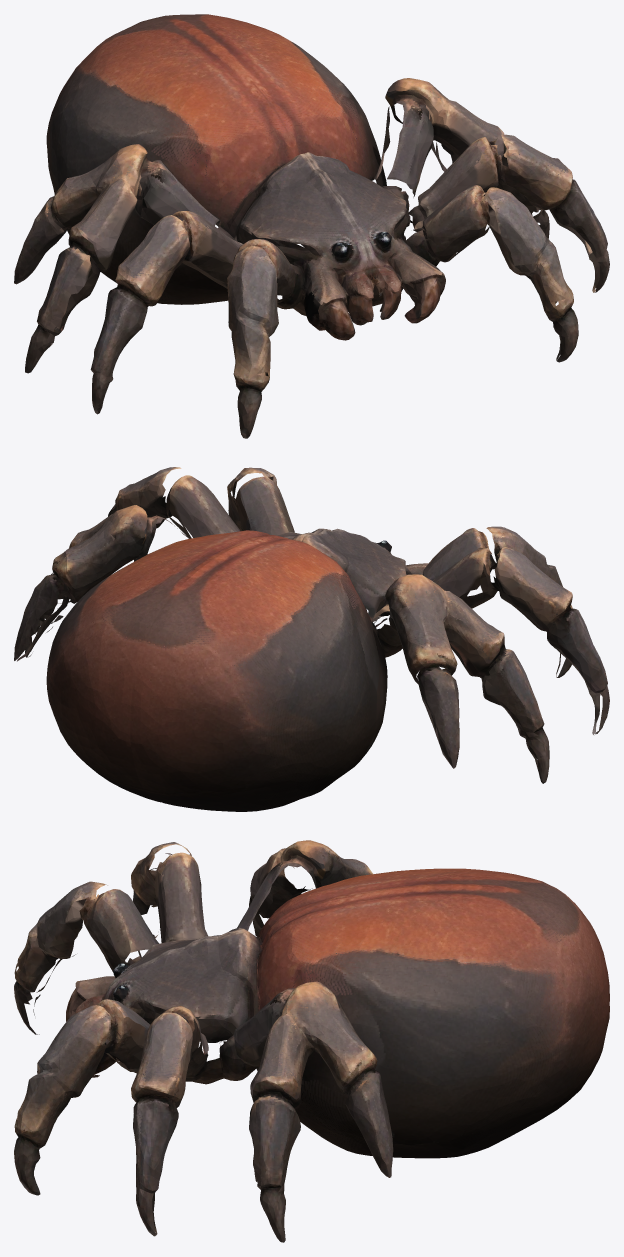
The model's file is tsuchigumo.glb.
The picture shows the model from 3 angles, top to bottom: view 1: azimuth 30°, elevation 25°; view 2: azimuth 150°, elevation 25°; view 3: azimuth 270°, elevation 25°; orthographic projection. The views are drawn at different scales.
Parts seen in each view (by area): view 1: temp_mesh.ply; view 2: temp_mesh.ply; view 3: temp_mesh.ply.
Boxes of the visible parts, x1,y1,x2,y2 form: temp_mesh.ply: [14, 14, 609, 438]; temp_mesh.ply: [14, 467, 609, 811]; temp_mesh.ply: [14, 840, 609, 1242].
Size of the model in its own units: 2 by 0.8648 by 1.88.
1 material, 1 textured.
